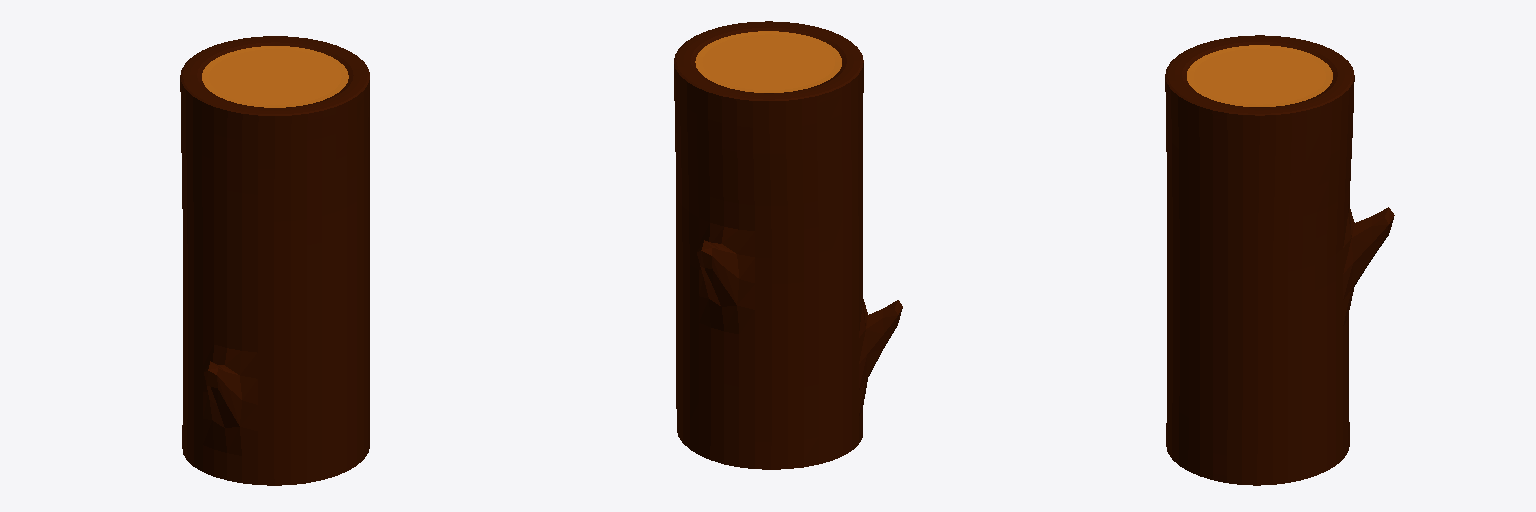
File: Log1.obj
3 renders of one model, left to right at view 1: azimuth 30°, elevation 25°; view 2: azimuth 150°, elevation 25°; view 3: azimuth 270°, elevation 25°, orthographic.
Parts seen in each view (by area): view 1: Cylinder005; view 2: Cylinder005; view 3: Cylinder005.
Part boxes in pixels (x1,y1,x2,y2): Cylinder005: (180,36,369,485); Cylinder005: (674,21,902,469); Cylinder005: (1165,35,1394,485).
Size of the model in its own units: 23.74 by 46.09 by 25.79.